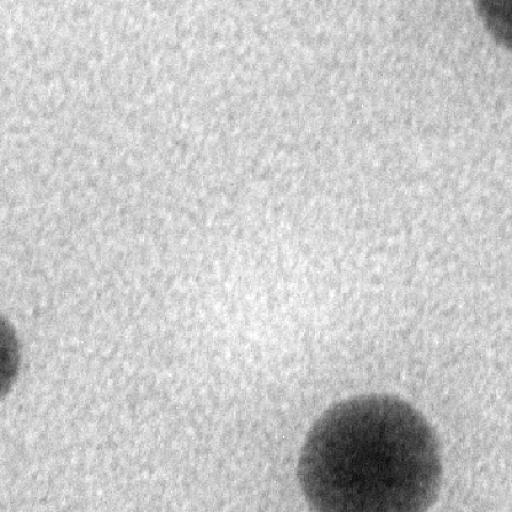Nanoparticles: (290, 387, 446, 510), (0, 310, 26, 396)
